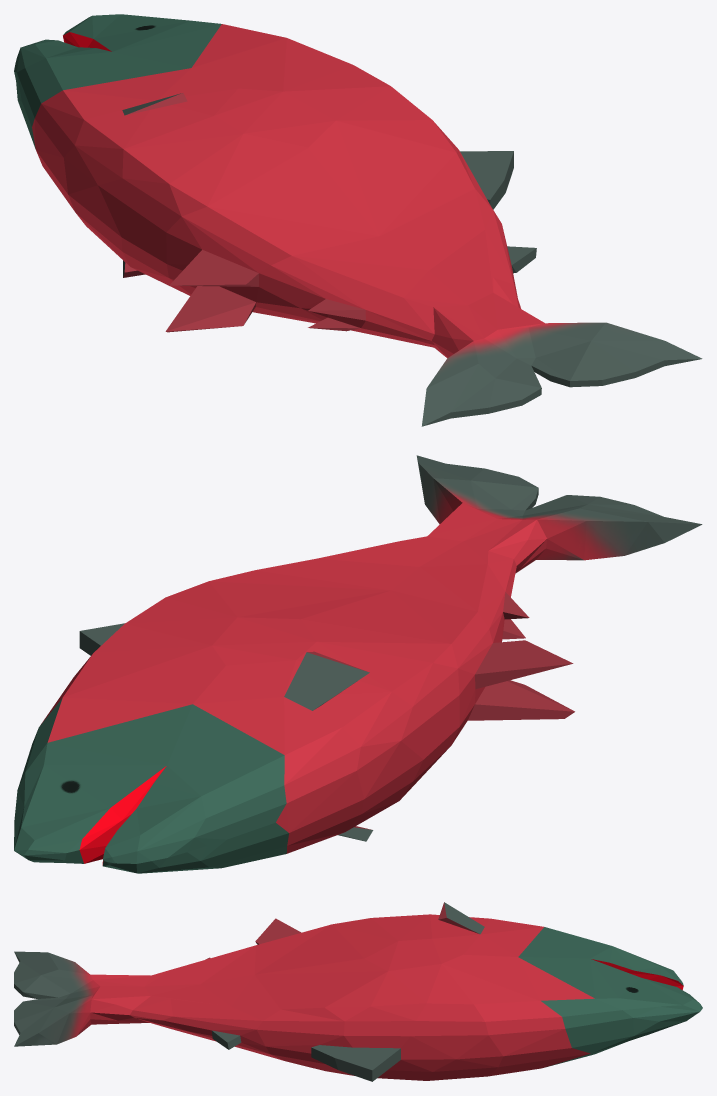
Rendered from Salmon.fbx.
3 renders of one model, top to bottom at view 1: azimuth 30°, elevation 25°; view 2: azimuth 150°, elevation 25°; view 3: azimuth 270°, elevation 25°, orthographic. The views are drawn at different scales.
Visible parts, largest first — view 1: Cube; view 2: Cube; view 3: Cube.
Part boxes in pixels (x1,y1,x2,y2): Cube: (14, 14, 702, 426); Cube: (14, 455, 702, 873); Cube: (14, 902, 702, 1081).
Bounding box in the file's own units: 256 × 102 × 531.
